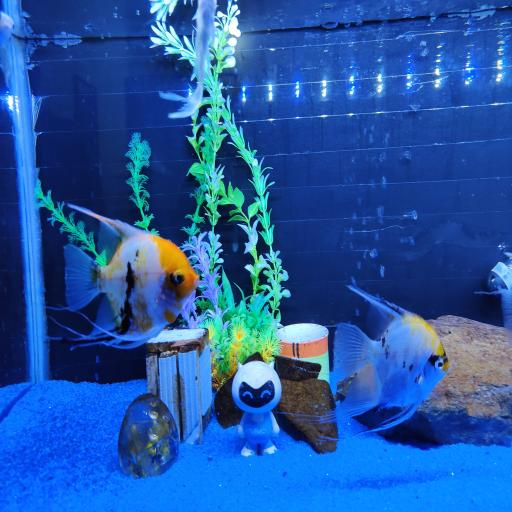Fish: (64, 205, 199, 347), (322, 286, 450, 431), (160, 0, 216, 118), (475, 288, 511, 347), (0, 11, 14, 46)
